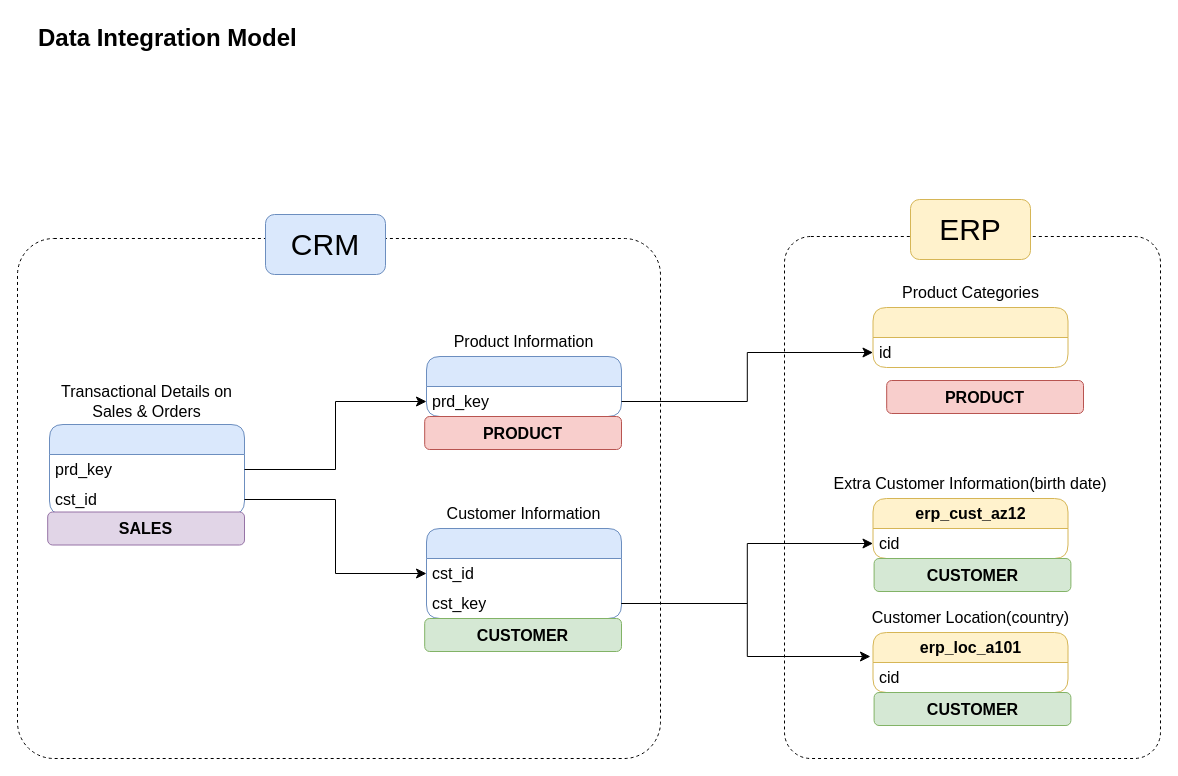
Some shapes in this 1178 by 776 pixel diagram are drawn without their labels. Here are the shapes that lost their labels. From the top down, the box of each, then its label:
(872, 306, 1068, 368): erp_px_cat_g1v2
(426, 356, 622, 416): crm_prd_info
(48, 424, 244, 514): crm_sales_details
(426, 528, 622, 618): crm_cust_info
